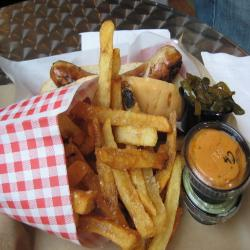fries: (35, 70, 193, 244)
hotdog: (27, 41, 211, 102)
